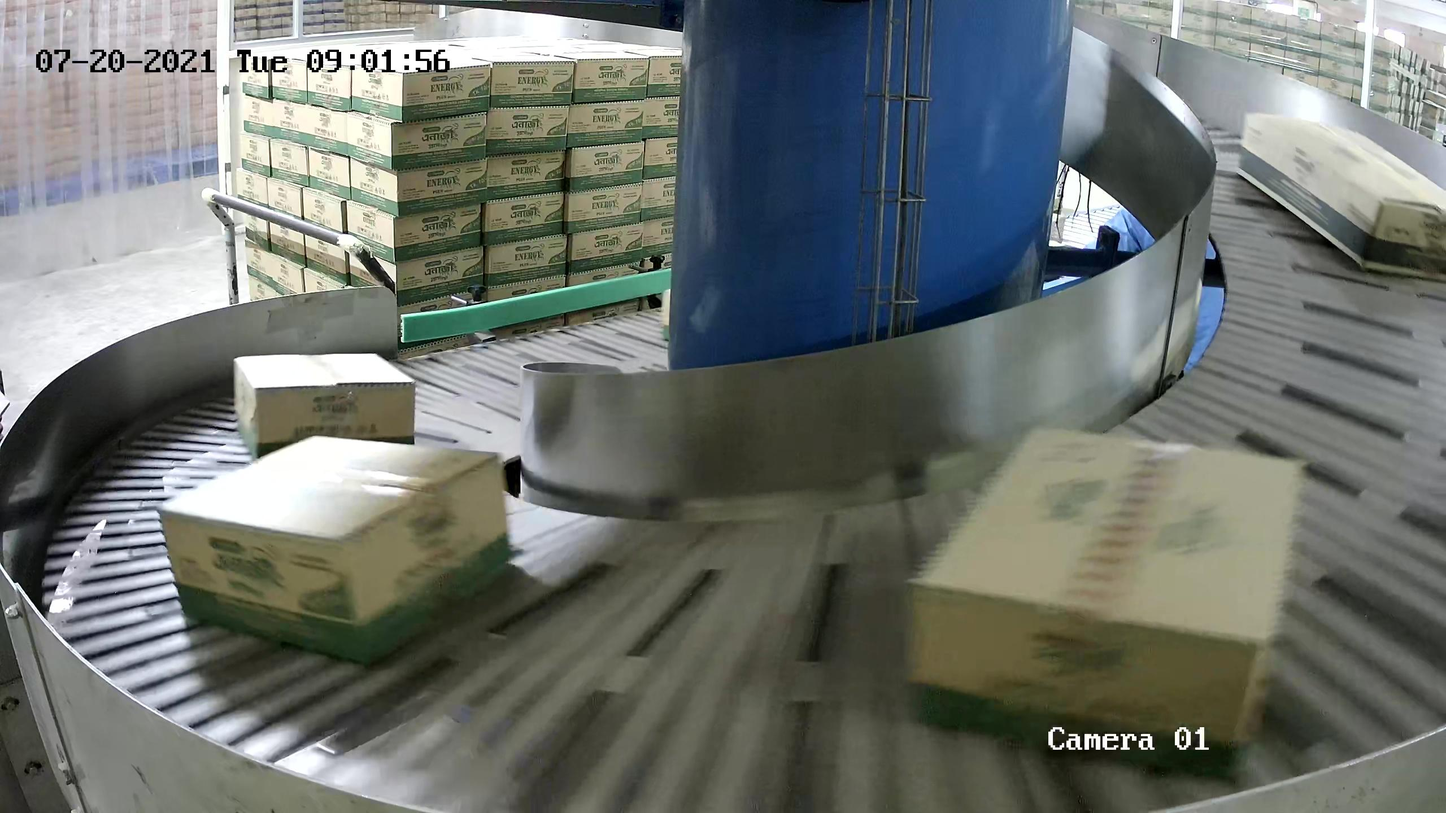Box: (902, 420, 1304, 781), (156, 434, 513, 665), (1234, 112, 1446, 286), (233, 352, 417, 470)
